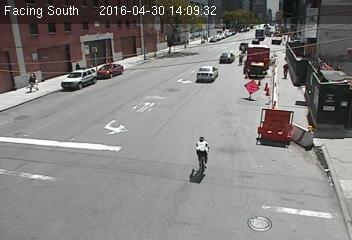neg: (186, 133, 213, 169), (297, 115, 317, 142), (313, 49, 332, 75), (64, 60, 82, 84), (254, 82, 271, 105), (187, 168, 202, 188), (260, 6, 272, 22), (178, 35, 189, 50), (196, 29, 205, 42)
pos: (23, 71, 40, 94), (280, 61, 294, 79), (235, 50, 248, 66)
